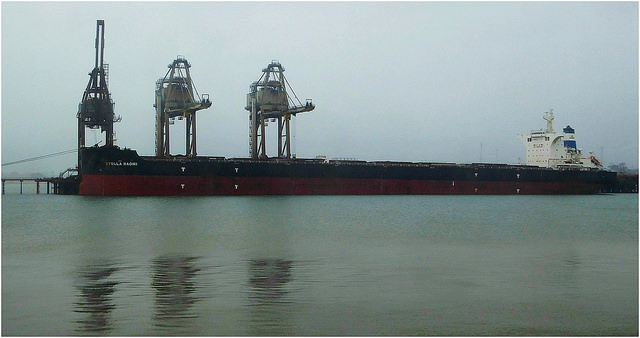bulk carrier: (80, 112, 621, 198)
